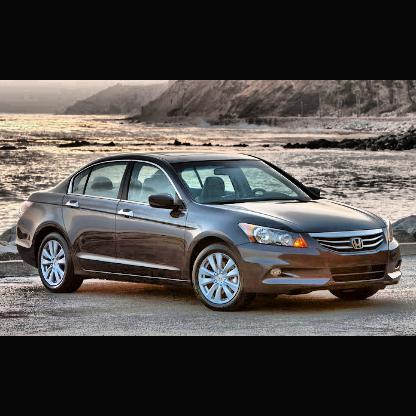Honda Accord Sedan 2012: (17, 153, 402, 313)
